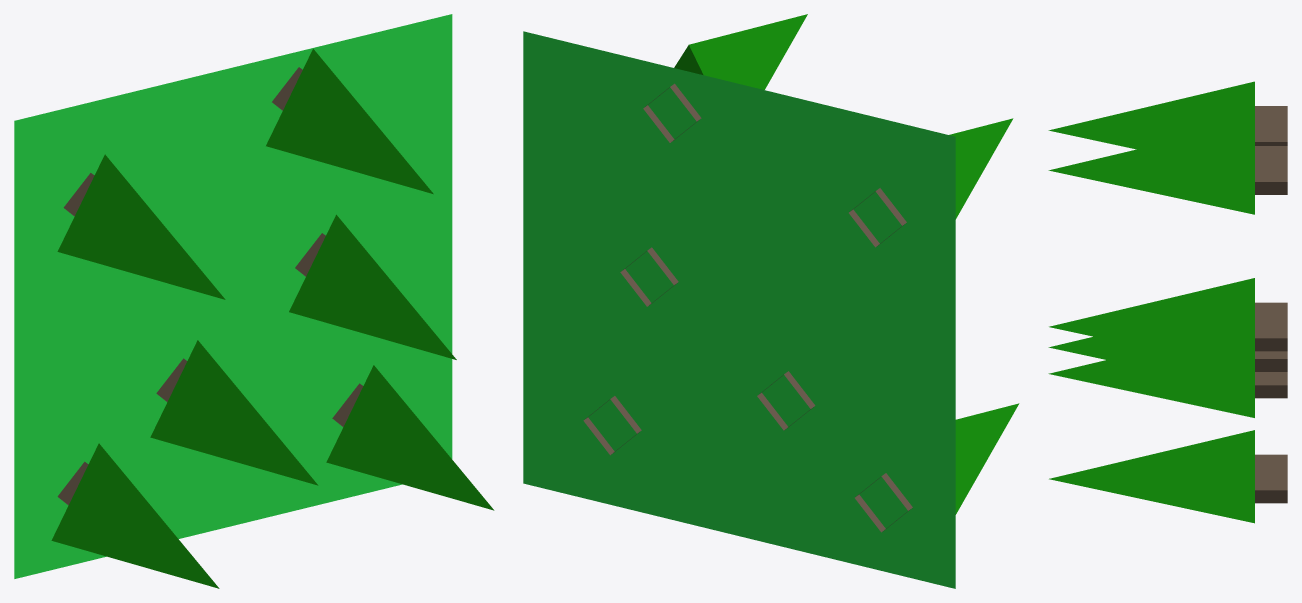
Rendered from forest.glb.
3 renders of one model, left to right at view 1: azimuth 30°, elevation 25°; view 2: azimuth 150°, elevation 25°; view 3: azimuth 270°, elevation 25°, orthographic. The views are drawn at different scales.
Parts seen in each view (by area): view 1: Plane.001, Cone.002, Cone, Cone.004, Cone.001, Cone.003, Cone.005; view 2: Plane.001, Cone.004, Cone.005, Cone.003; view 3: Cone.001, Cone, Cone.004, Cone.003, Cone.005, Cone.002.
Part boxes in pixels (x1=…): Plane.001: x1=14, y1=14, x2=452, y2=578; Cone.002: x1=150, y1=340, x2=318, y2=485; Cone: x1=326, y1=365, x2=494, y2=510; Cone.004: x1=266, y1=49, x2=433, y2=194; Cone.001: x1=289, y1=214, x2=456, y2=359; Cone.003: x1=57, y1=154, x2=225, y2=299; Cone.005: x1=51, y1=443, x2=219, y2=588; Plane.001: x1=523, y1=31, x2=955, y2=588; Cone.004: x1=643, y1=14, x2=807, y2=142; Cone.005: x1=855, y1=403, x2=1019, y2=532; Cone.003: x1=849, y1=118, x2=1013, y2=247; Cone.001: x1=1049, y1=278, x2=1287, y2=371; Cone: x1=1049, y1=430, x2=1287, y2=523; Cone.004: x1=1048, y1=121, x2=1287, y2=214; Cone.003: x1=1048, y1=81, x2=1287, y2=149; Cone.005: x1=1048, y1=360, x2=1287, y2=417; Cone.002: x1=1048, y1=336, x2=1287, y2=391.
Bounding box in the file's own units: 1 × 1.03 × 0.5538.
